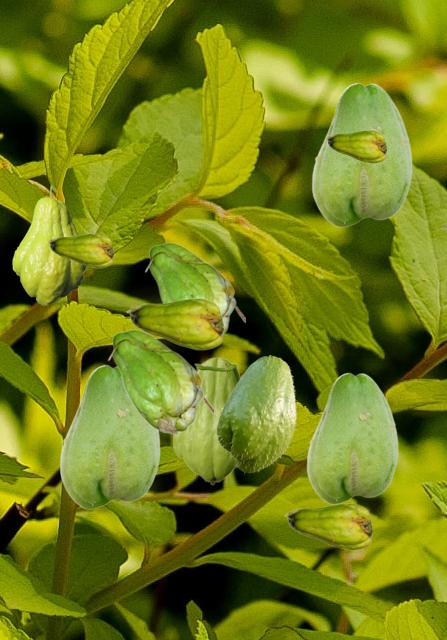sayote: (311, 82, 411, 226), (59, 364, 159, 508), (306, 372, 397, 503), (107, 329, 212, 434), (214, 355, 296, 473), (144, 242, 244, 335), (12, 185, 86, 304), (172, 357, 240, 484), (126, 298, 222, 349), (284, 503, 371, 549), (47, 233, 112, 267), (325, 130, 385, 162)
